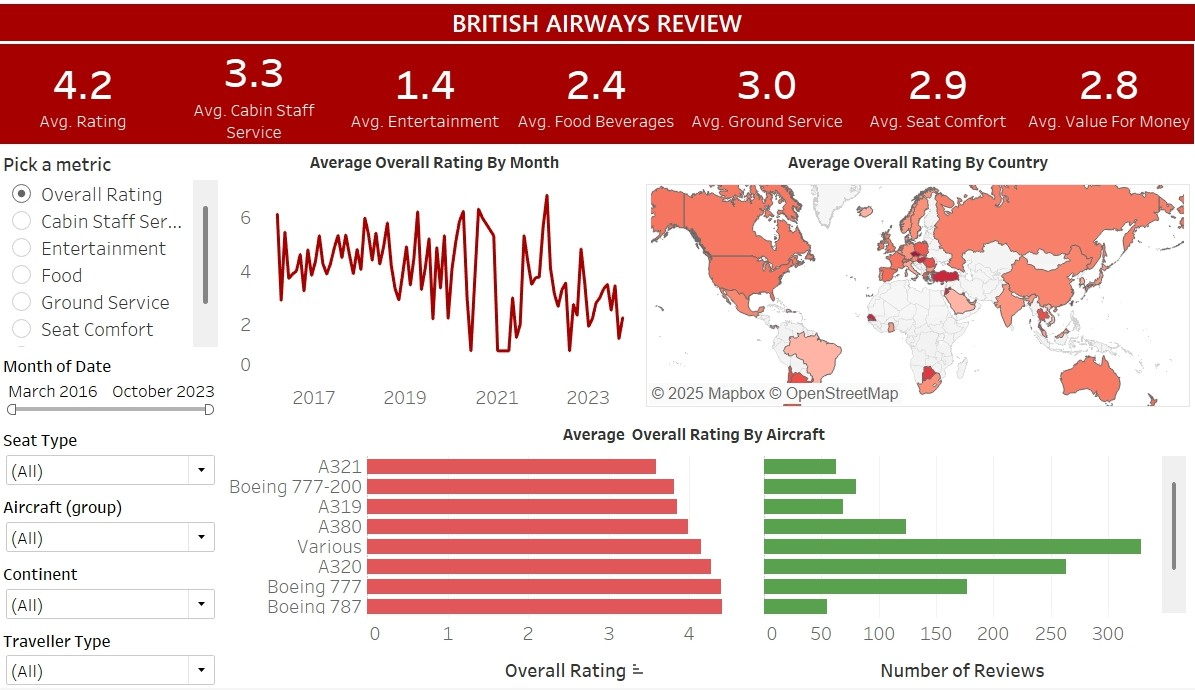

What the dashboard file says about the page in this screenshot:
{"tool":"tableau","page":{"name":"Dashboard","canvas":[1200,700],"ordinal":0},"visuals":[{"type":"title","box":[8,8,1184,58]},{"type":"text","box":[3,16,1196,37]},{"type":"worksheet","title":"Summary","mark":"Automatic","box":[2,56,1196,100]},{"type":"parameter","param":"[Parameters].[Parameter 1]","box":[3,159,223,204]},{"type":"worksheet","title":"Month","mark":"Automatic","rows":["Calculation_2813623870372720640"],"cols":["date"],"box":[232,159,413,262]},{"type":"worksheet","title":"Map","mark":"Automatic","box":[650,159,544,260]},{"type":"filter","title":"Map","param":"[federated.050ftpx0c1s3361gilskp05poy16].[tmn:date:qk]","box":[3,363,223,74]},{"type":"worksheet","title":"Aircraft","mark":"Automatic","cols":["Calculation_2813623870372720640","ba_reviews.csv_B0189D5D21E54A2AB2B78D633D2570DA"],"box":[231,431,960,263]},{"type":"filter","title":"Map","param":"[federated.050ftpx0c1s3361gilskp05poy16].[none:seat_type:nk]","box":[3,437,223,67]},{"type":"filter","title":"Map","param":"[federated.050ftpx0c1s3361gilskp05poy16].[Aircraft (group)]","box":[3,504,223,67]},{"type":"filter","title":"Map","param":"[federated.050ftpx0c1s3361gilskp05poy16].[none:Continent:nk]","box":[3,571,223,67]},{"type":"filter","title":"Map","param":"[federated.050ftpx0c1s3361gilskp05poy16].[none:traveller_type:nk]","box":[3,638,223,65]}]}

Visuals, with their boxes in screenshot pixels (x1, y1, x2, y2), scaled from the page's 1200x700 canvas onto the 1195x690 screenshot:
title: box=[8, 8, 1187, 65]
text: box=[3, 16, 1194, 52]
"Summary" worksheet: box=[2, 55, 1193, 154]
parameter: box=[3, 157, 225, 358]
"Month" worksheet: box=[231, 157, 642, 415]
"Map" worksheet: box=[647, 157, 1189, 413]
"Map" filter: box=[3, 358, 225, 431]
"Aircraft" worksheet: box=[230, 425, 1186, 684]
"Map" filter: box=[3, 431, 225, 497]
"Map" filter: box=[3, 497, 225, 563]
"Map" filter: box=[3, 563, 225, 629]
"Map" filter: box=[3, 629, 225, 689]
